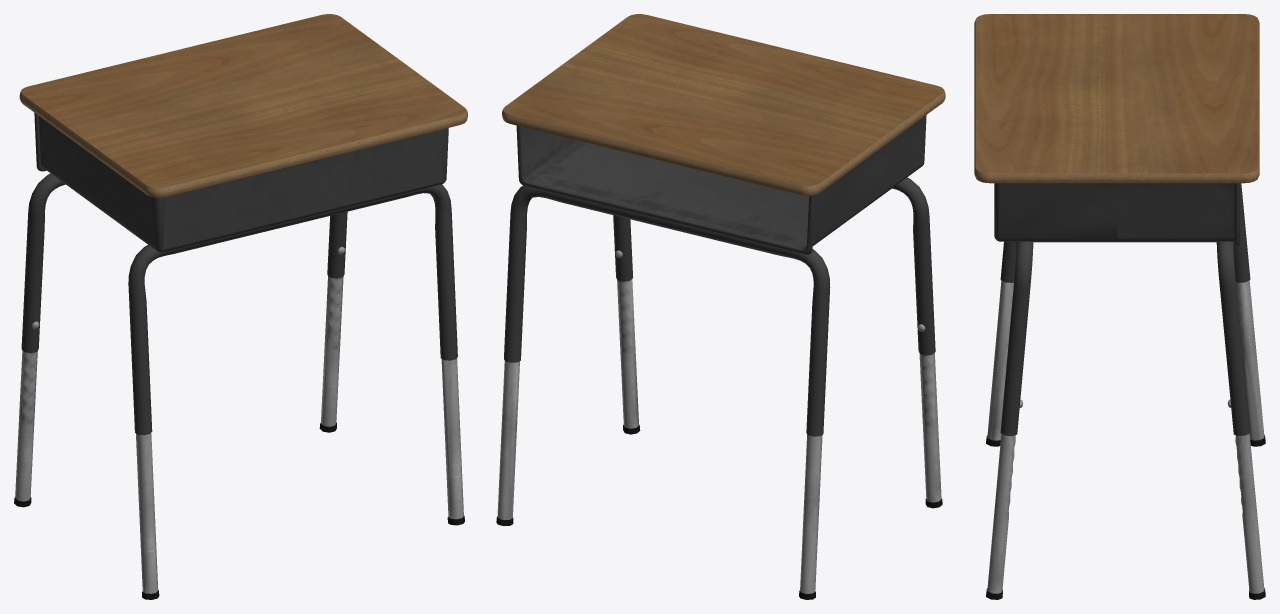
The model's file is classroom_desk.glb.
The picture shows the model from 3 angles, left to right: view 1: azimuth 30°, elevation 25°; view 2: azimuth 150°, elevation 25°; view 3: azimuth 270°, elevation 25°; orthographic projection. The views are drawn at different scales.
Parts seen in each view (by area): view 1: university/classroom_desk; view 2: university/classroom_desk; view 3: university/classroom_desk.
Boxes of the visible parts, x1,y1,x2,y2 form: university/classroom_desk: [14, 14, 467, 599]; university/classroom_desk: [496, 14, 945, 599]; university/classroom_desk: [974, 14, 1265, 599].
Size of the model in its own units: 0.7118 by 0.8826 by 0.546.
Materials: 1 (1 with a texture image).
